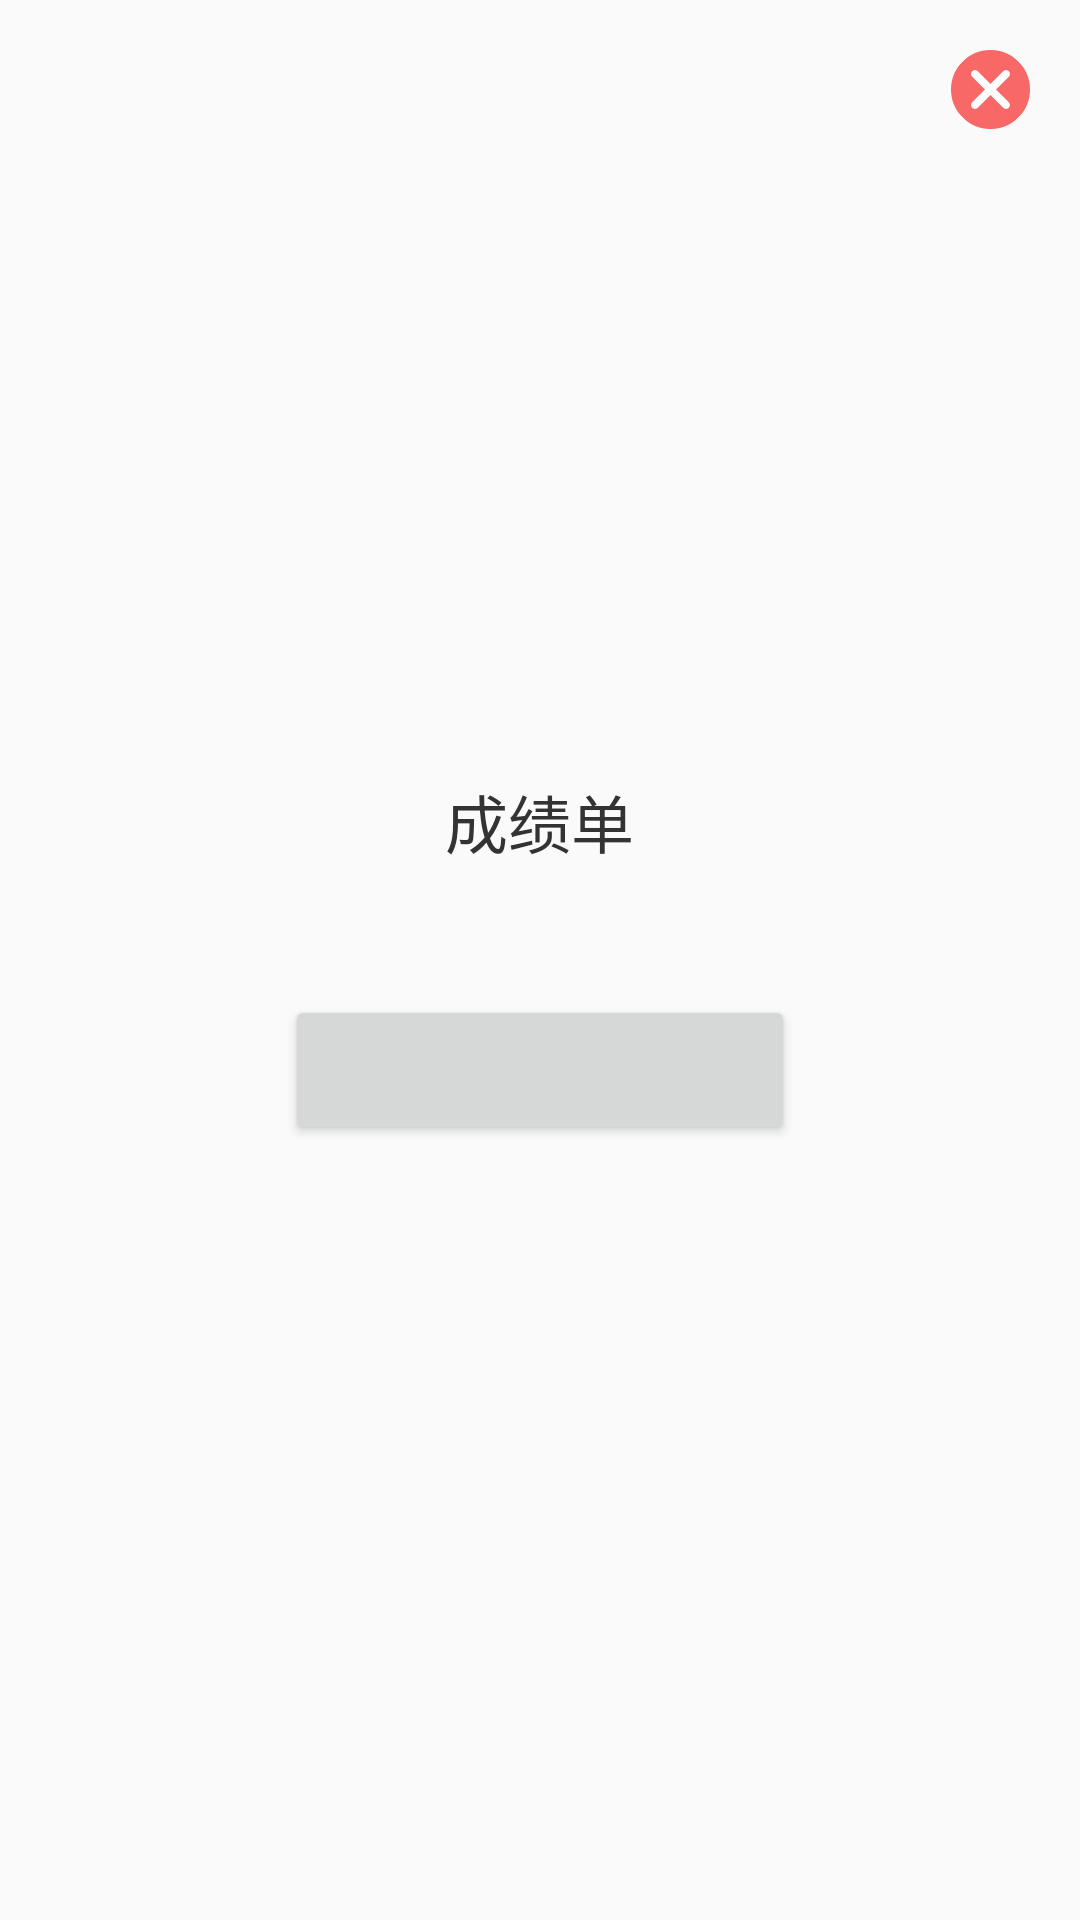

Screen size 1080 × 1920. Icon name, then its center in pixels as point (x, y):
target adv delete: point (990, 89)
